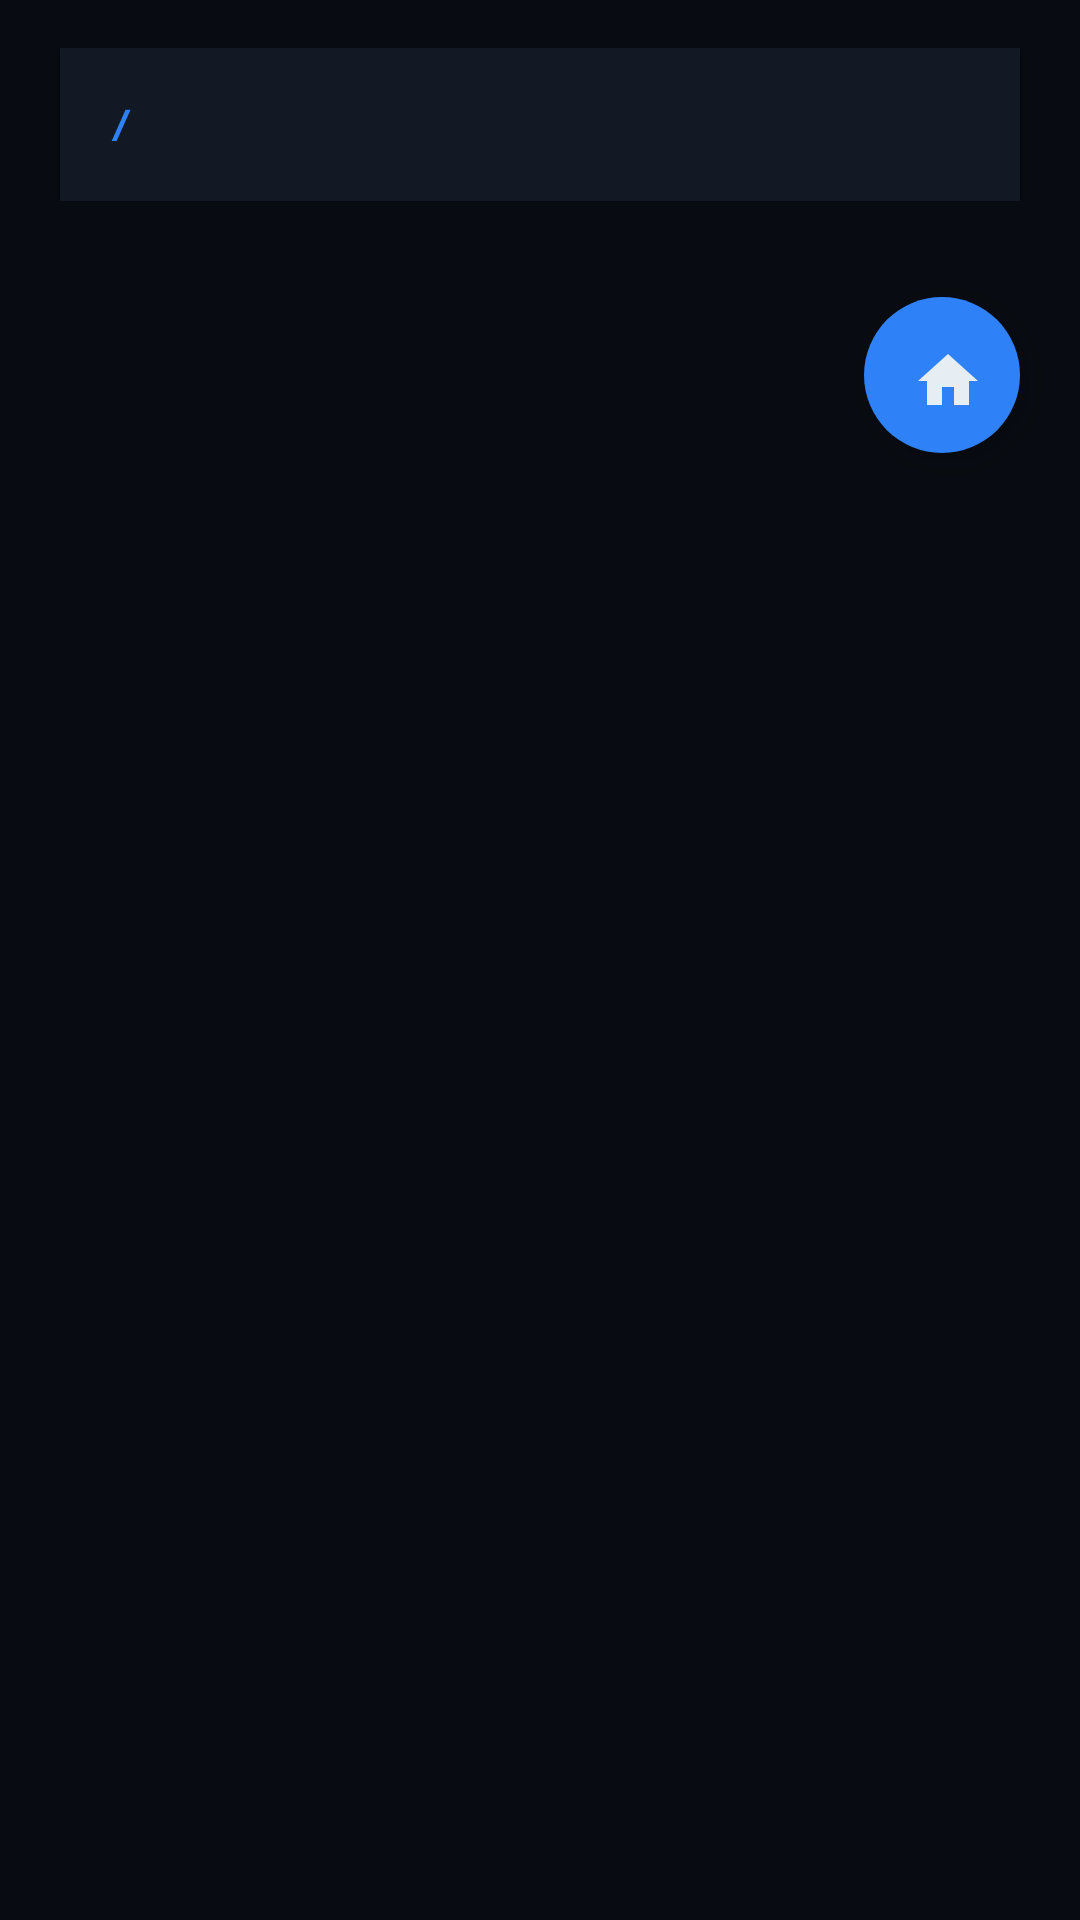

Screen size 1080*1920. Icon name, then its center in pixels as point (x, y):
home: point (942, 375)
